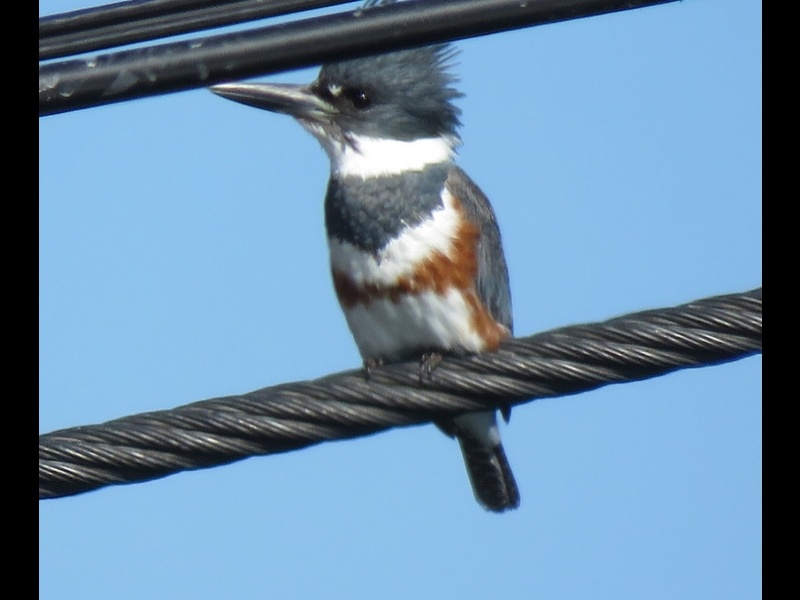kingfisher: (204, 19, 542, 519)
